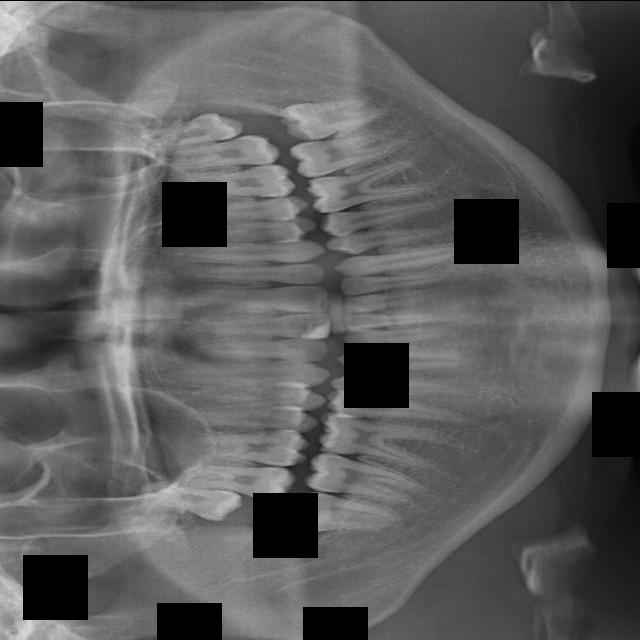3M ESPE Implant: (169, 488, 170, 489)
AGS Medikal Implant: (187, 262, 327, 286)
AMerOss Implant: (156, 238, 323, 265)
Amalgam filling: (156, 213, 319, 248)
Anthogyr Implant: (168, 194, 311, 228)
Bicon Implant: (170, 162, 298, 205)
BioHorizons Implant: (157, 131, 282, 171)
BioLife Implant: (139, 105, 246, 153)
Biomet 3i Implant: (277, 91, 389, 143)
Blue Sky Bio Implant: (286, 118, 410, 180)
Camlog Implant: (304, 151, 436, 214)
Caries: (173, 459, 298, 501)
Composite filling: (318, 194, 451, 237)
Cowellmedi Implant: (324, 211, 456, 259)
Crown: (333, 237, 484, 279)
DENTSPLY Implant: (338, 270, 458, 295)
Dentatus Implant: (341, 284, 451, 315)
Dentis Implant: (340, 308, 453, 329)
Dentium Implant: (342, 324, 458, 347)
Euroteknika Implant: (335, 347, 478, 371)
Filling: (327, 367, 470, 407)
Frontier Implant: (324, 389, 471, 432)
Hiossen Implant: (172, 428, 311, 468)
Implant: (302, 450, 426, 505)
Implant Direct: (313, 411, 448, 472)
Keystone Dental Implant: (291, 488, 402, 532)
MIS Implant: (168, 400, 319, 433)
Mandible: (182, 387, 325, 410)
Maxilla: (156, 360, 332, 386)
Megagen Implant: (184, 332, 329, 360)
Neodent Implant: (182, 312, 331, 340)
Neoss Implant: (183, 285, 329, 312)
